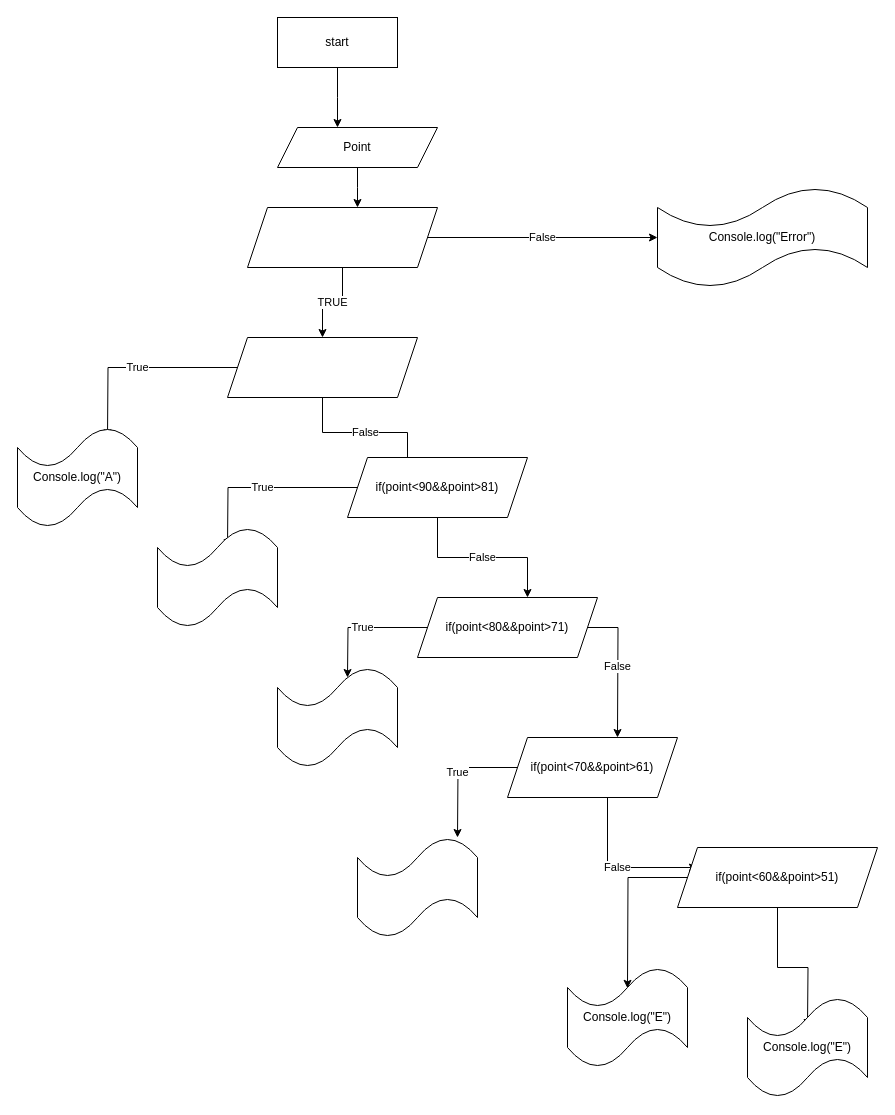
The diagram is 895 pixels wide and 1115 high, and some of its shapes have lost their labels. Here are the shapes that lost their labels. From the top down, the centre of each, then its label:
pixel 342 237: if(point>0&&point<100)
pixel 322 367: if(point<100&&point>91)
pixel 217 577: Console.log("B")
pixel 337 717: Console.log("C")
pixel 417 887: Console.log("D")
